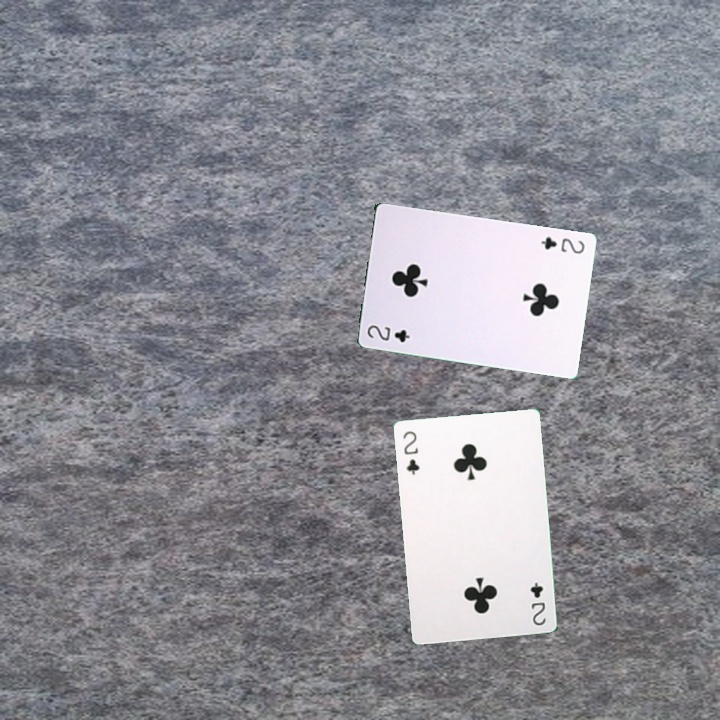2c: (363, 321, 412, 345), (537, 233, 587, 256), (399, 427, 422, 477), (526, 578, 548, 628)
